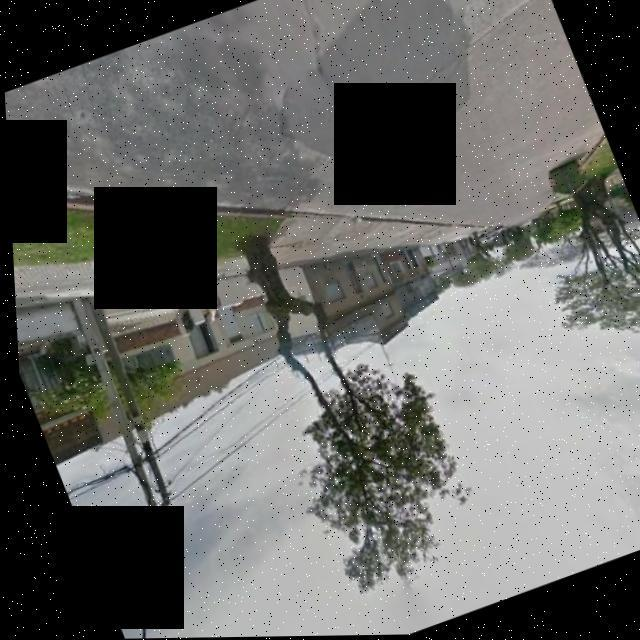bin: (533, 150, 597, 211)
